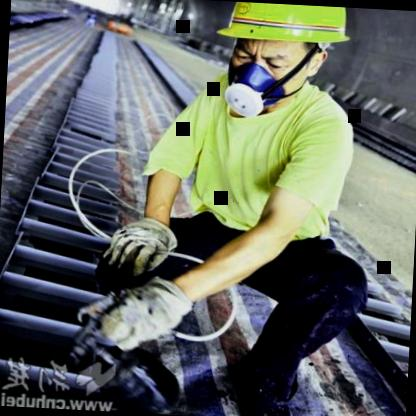helmet: (207, 1, 362, 102)
